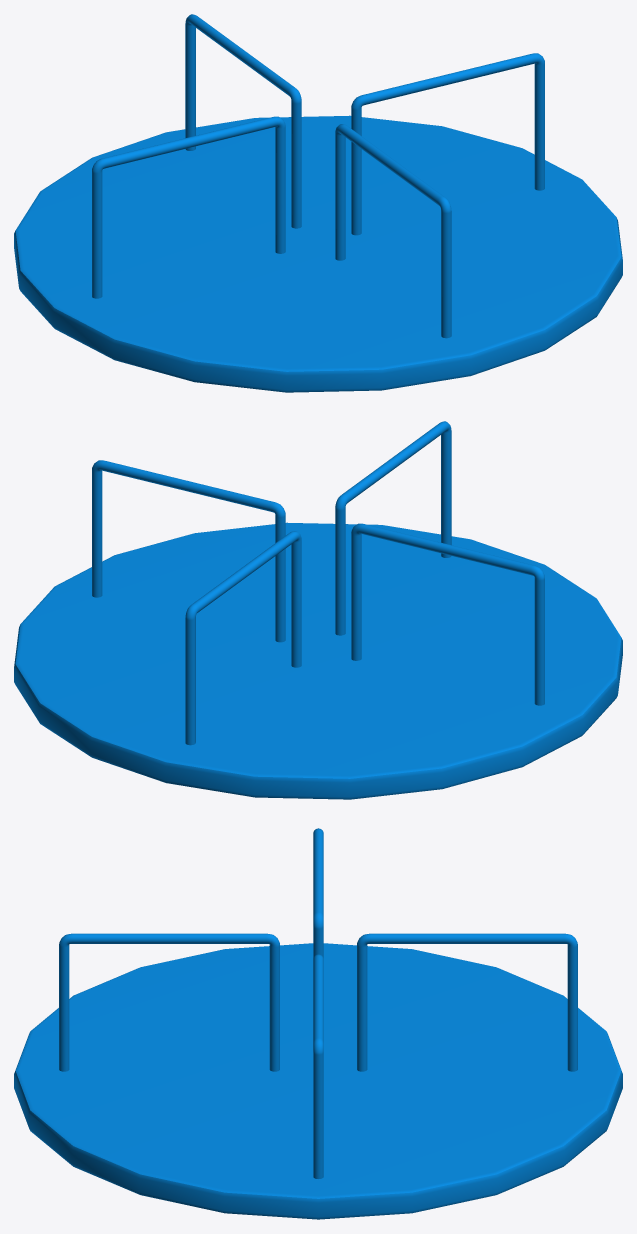
The model's file is Parent_Run_RotatingSwing.fbx.
The picture shows the model from 3 angles, top to bottom: view 1: azimuth 30°, elevation 25°; view 2: azimuth 150°, elevation 25°; view 3: azimuth 270°, elevation 25°; orthographic projection.
Parts seen in each view (by area): view 1: Rotating_Swings; view 2: Rotating_Swings; view 3: Rotating_Swings.
Part boxes in pixels (x1,y1,x2,y2): Rotating_Swings: (14, 14, 622, 392); Rotating_Swings: (14, 421, 622, 799); Rotating_Swings: (14, 828, 622, 1219).
Bounding box in the file's own units: 496 × 165 × 496.
